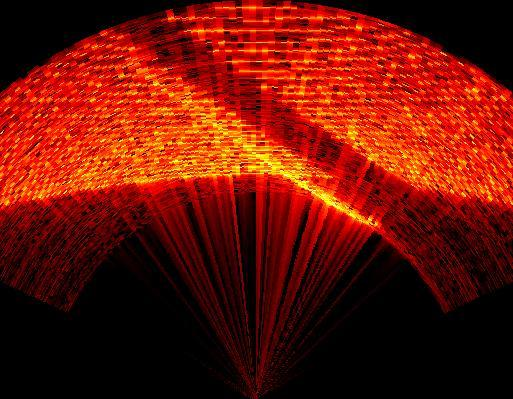pipe: (112, 10, 420, 225)
